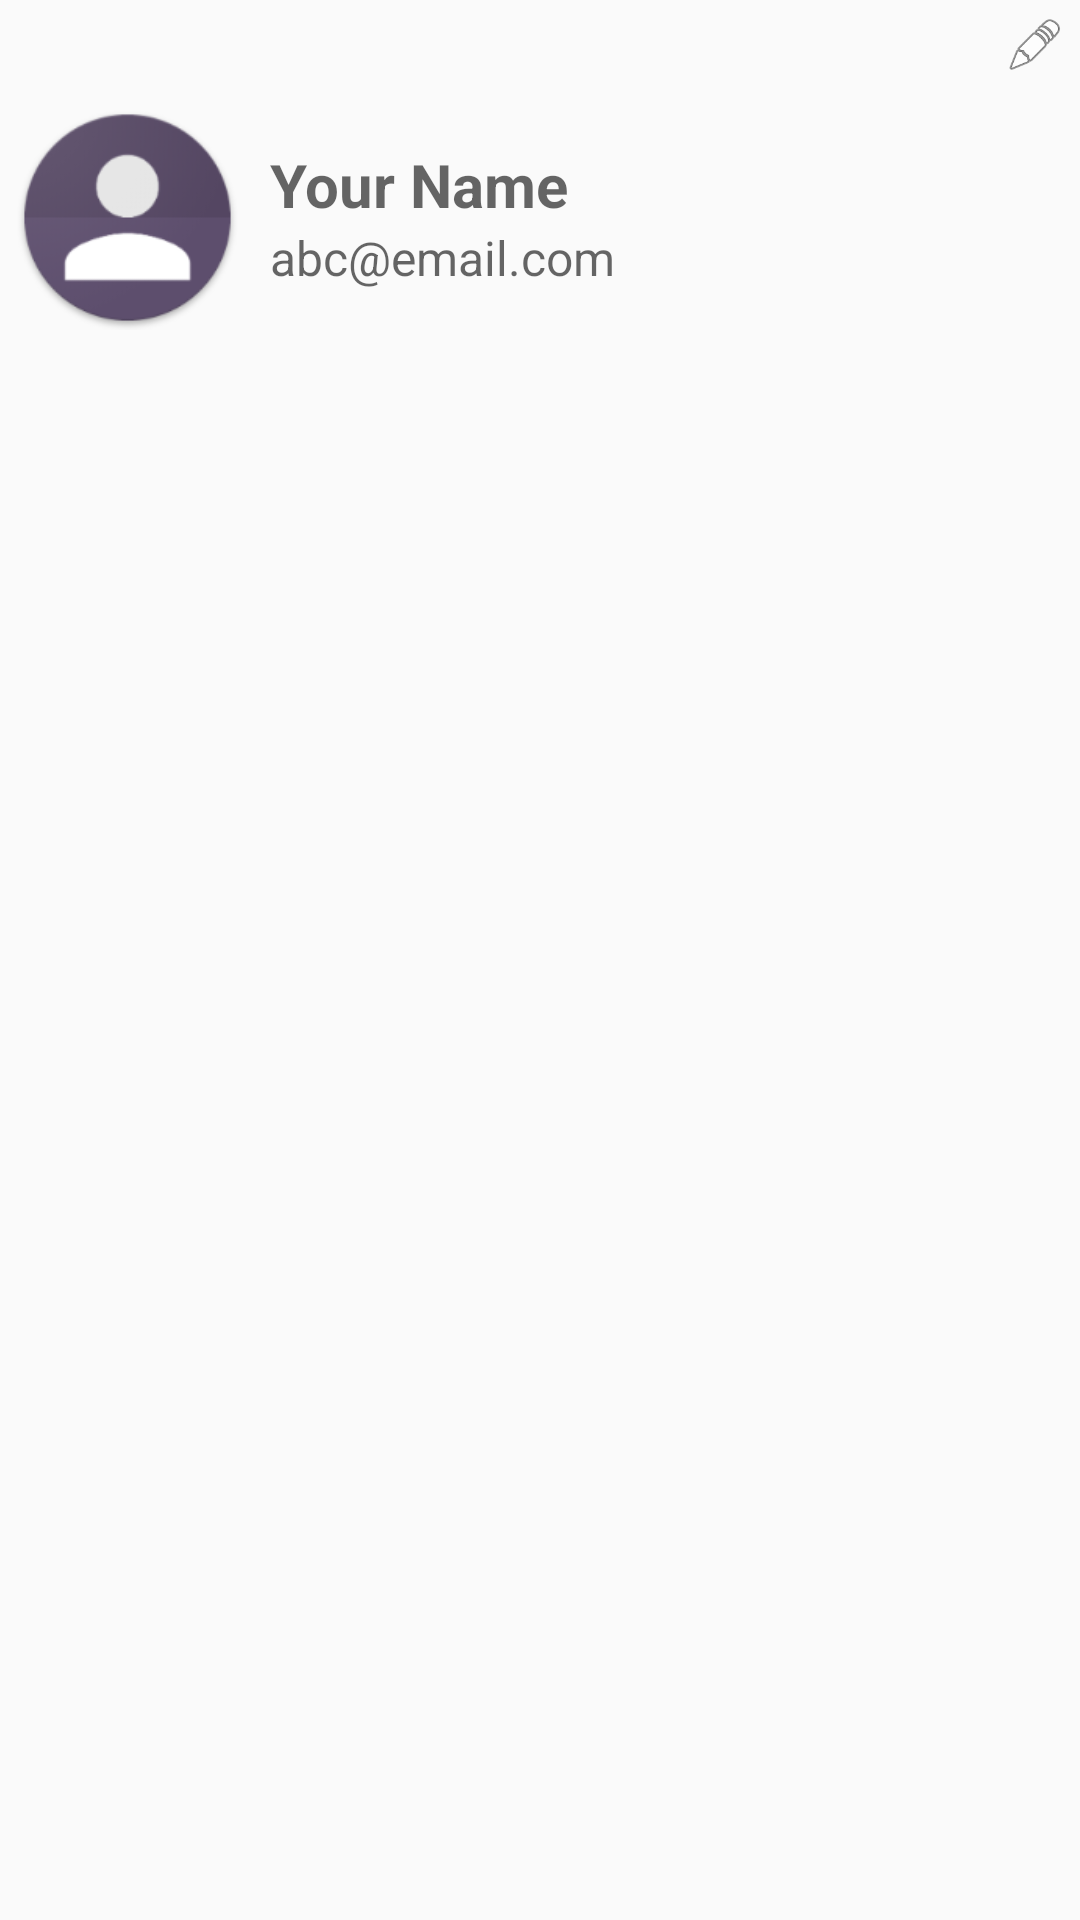

Point at icon controls on the screen. Image size 1080 x 1920, points as (x=x, y=y).
edit: (x=1034, y=44)
profile pic: (x=127, y=219)
